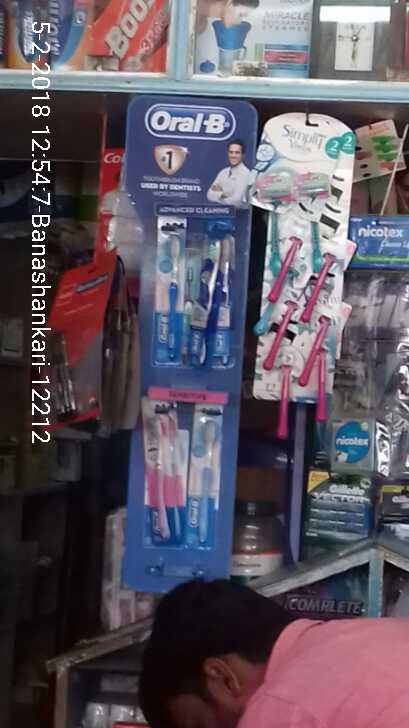oralb: (140, 394, 182, 545), (203, 223, 235, 372), (186, 403, 218, 550), (152, 210, 181, 371)
